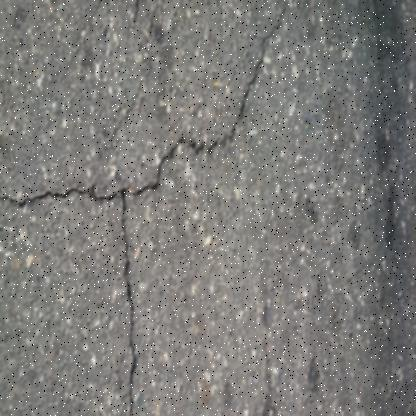Cracks: (0, 3, 287, 213), (111, 174, 143, 416)
